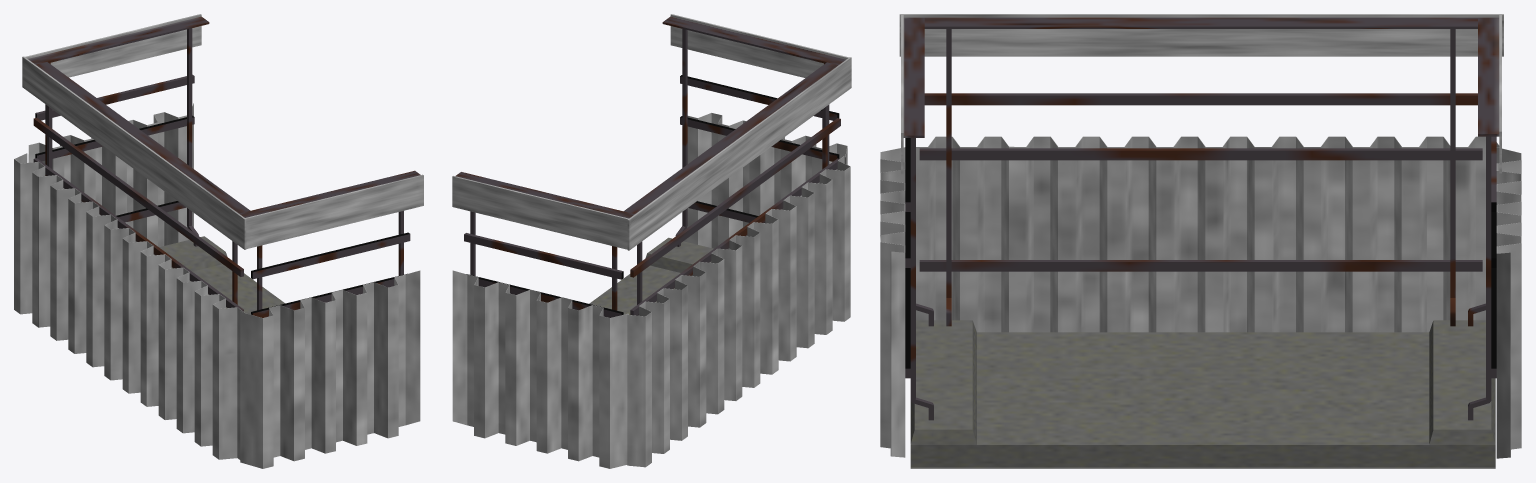
Rendered from Balkon rect.fbx.
3 renders of one model, left to right at view 1: azimuth 30°, elevation 25°; view 2: azimuth 150°, elevation 25°; view 3: azimuth 270°, elevation 25°, orthographic. The views are drawn at different scales.
Visible parts, largest first — view 1: face.001, face.002, parapet, Balkon_rig_h.003, parapet.002, face, parapet.001, Balkon_bottom, Balkon_rig_h.004; view 2: face.001, face, parapet, Balkon_rig_h.003, parapet.001, face.002, parapet.002, Balkon_bottom, Balkon_rig_h.004; view 3: face.001, Balkon_bottom, parapet, Balkon_rig_h.003, face, face.002, Balkon_rig_h.004, parapet.002, parapet.001.
Boxes of the visible parts, box(x1,y1,x2,y2) form: face.001: box(14, 153, 243, 459); face.002: box(240, 270, 420, 468); parapet: box(22, 56, 250, 249); Balkon_rig_h.003: box(33, 74, 410, 317); parapet.002: box(239, 170, 423, 248); face: box(28, 103, 193, 246); parapet.001: box(25, 14, 209, 77); Balkon_bottom: box(153, 236, 285, 314); Balkon_rig_h.004: box(45, 28, 403, 310); face.001: box(627, 156, 850, 467); face: box(452, 270, 628, 468); parapet: box(624, 57, 851, 250); Balkon_rig_h.003: box(464, 75, 840, 317); parapet.001: box(452, 172, 634, 249); face.002: box(684, 112, 847, 249); parapet.002: box(662, 14, 848, 77); Balkon_bottom: box(589, 237, 713, 314); Balkon_rig_h.004: box(470, 29, 829, 315); face.001: box(916, 136, 1499, 332); Balkon_bottom: box(910, 320, 1495, 468); parapet: box(899, 14, 1503, 56); Balkon_rig_h.003: box(905, 93, 1496, 378); face: box(1496, 147, 1521, 458); face.002: box(880, 147, 905, 457); Balkon_rig_h.004: box(910, 29, 1491, 420); parapet.002: box(901, 15, 924, 174); parapet.001: box(1478, 15, 1501, 173).
Size of the model in its own units: 113 by 139 by 241.
4 materials, 4 textured.
